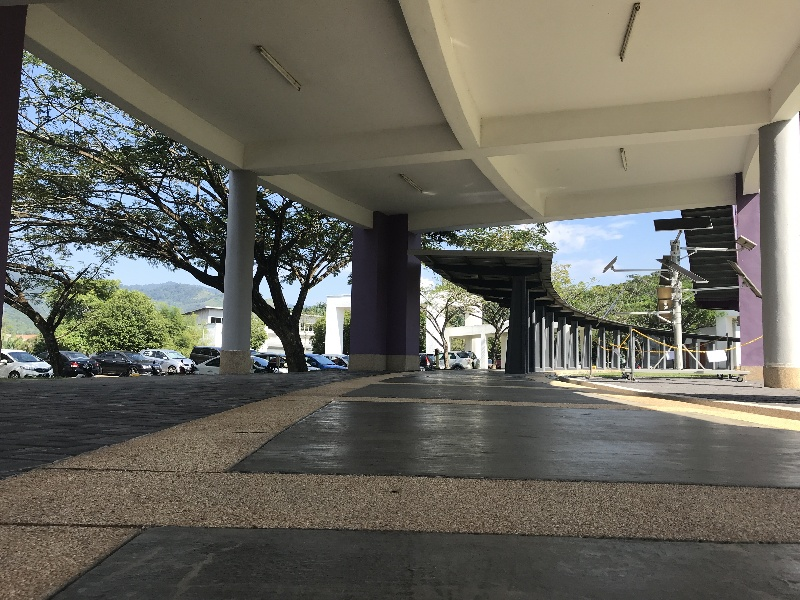Block D Pillar 5: (6, 5, 799, 549)
pillar: (719, 113, 800, 388), (341, 207, 424, 384), (213, 157, 258, 376), (503, 257, 534, 385)
